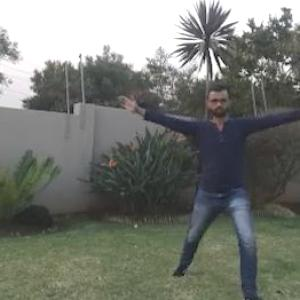takeoff: (124, 95, 299, 299)
